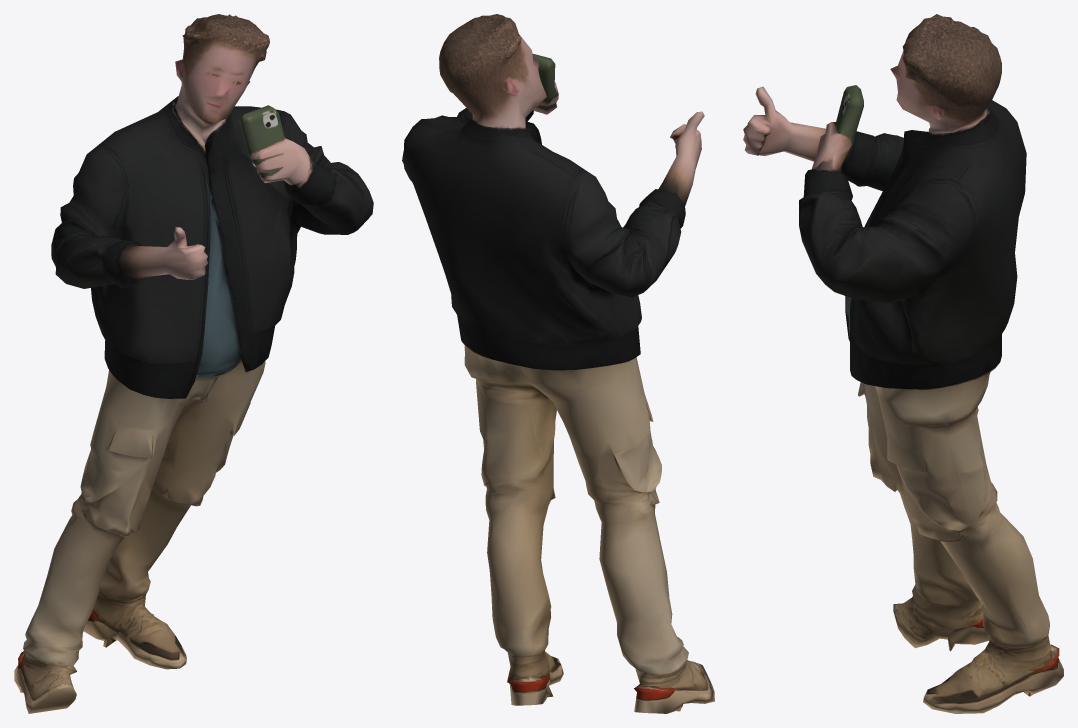
The model's file is selected.glb.
The picture shows the model from 3 angles, left to right: view 1: azimuth 30°, elevation 25°; view 2: azimuth 150°, elevation 25°; view 3: azimuth 270°, elevation 25°; orthographic projection. The views are drawn at different scales.
Parts seen in each view (by area): view 1: tripo_node_286c8be5-10af-49e2-997b-aa7ffe8695f0; view 2: tripo_node_286c8be5-10af-49e2-997b-aa7ffe8695f0; view 3: tripo_node_286c8be5-10af-49e2-997b-aa7ffe8695f0.
Boxes of the visible parts, bbox=[...] form: tripo_node_286c8be5-10af-49e2-997b-aa7ffe8695f0: bbox=[14, 14, 373, 713]; tripo_node_286c8be5-10af-49e2-997b-aa7ffe8695f0: bbox=[402, 14, 714, 713]; tripo_node_286c8be5-10af-49e2-997b-aa7ffe8695f0: bbox=[743, 14, 1063, 713].
Bounding box in the file's own units: 0.5137 × 0.998 × 0.4043.
1 material, 1 textured.
